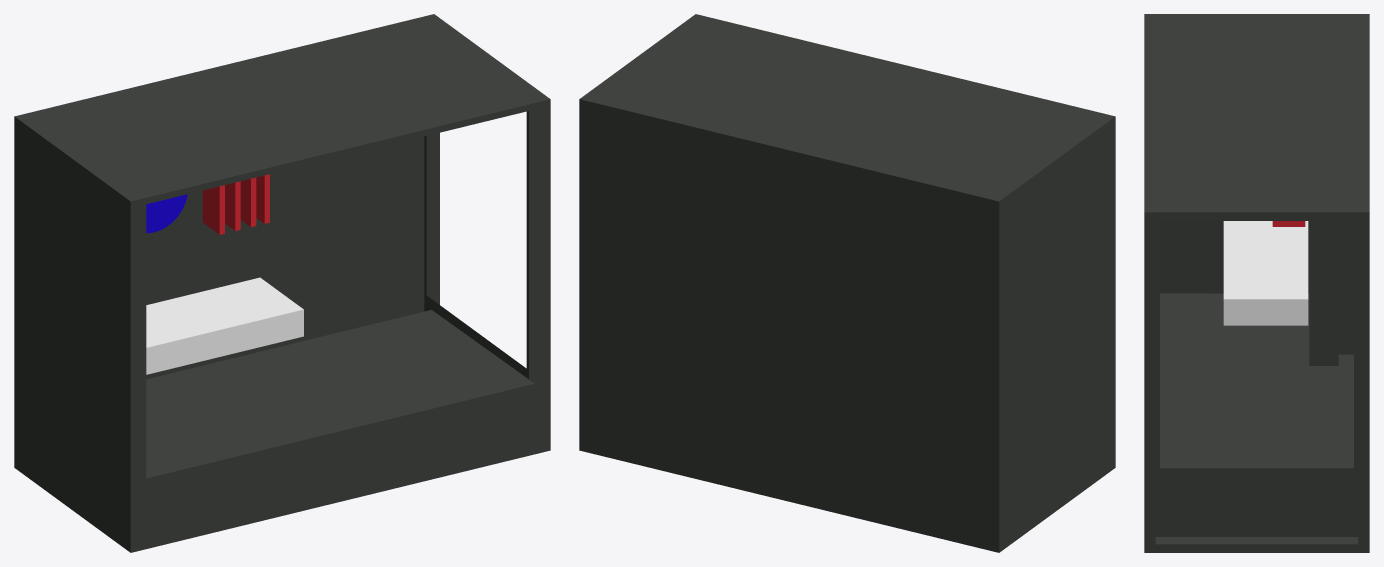
The model's file is ComputerCase.glb.
3 renders of one model, left to right at view 1: azimuth 30°, elevation 25°; view 2: azimuth 150°, elevation 25°; view 3: azimuth 270°, elevation 25°, orthographic. The views are drawn at different scales.
Parts seen in each view (by area): view 1: Plane, Plane.001, Cylinder, Plane.002, Plane.004, Plane.003, Plane.005; view 2: Plane; view 3: Plane, Plane.001.
Boxes of the visible parts, x1,y1,x2,y2 form: Plane: (14, 14, 550, 552); Plane.001: (146, 277, 303, 374); Cylinder: (146, 194, 187, 233); Plane.002: (202, 185, 224, 234); Plane.004: (240, 177, 256, 227); Plane.003: (225, 181, 240, 230); Plane.005: (256, 174, 269, 223); Plane: (579, 14, 1115, 552); Plane: (1144, 14, 1369, 552); Plane.001: (1223, 221, 1308, 325).
Size of the model in its own units: 5 by 4 by 2.4.
